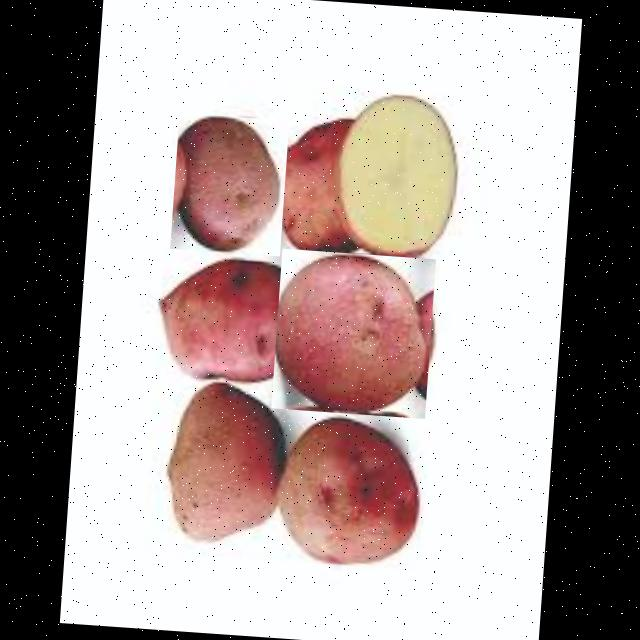Defected potato: (270, 248, 436, 418), (271, 408, 427, 574), (158, 374, 292, 547), (148, 248, 306, 384), (170, 112, 289, 255)
